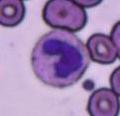N: (31, 29, 90, 88)
